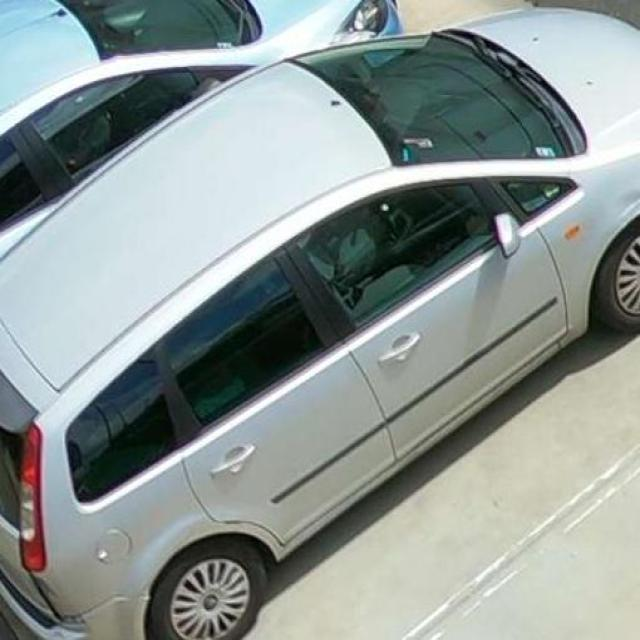Car: (18, 38, 578, 475)
